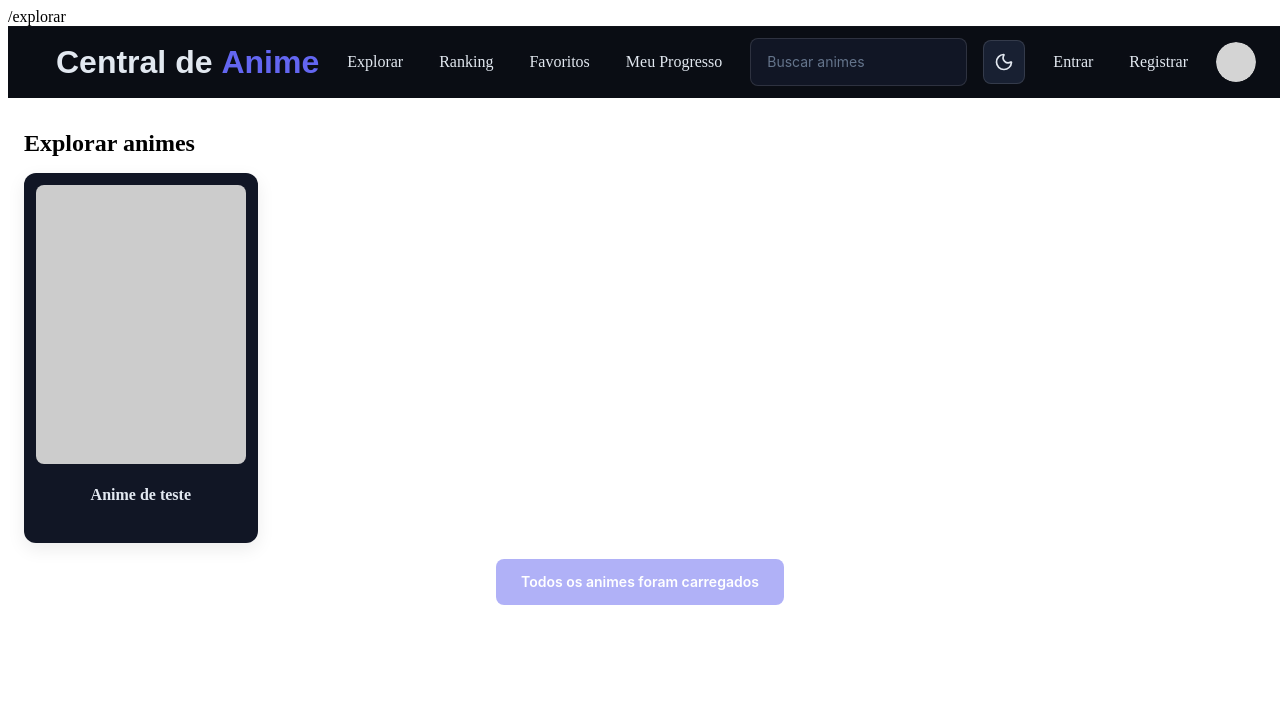
Explorar e pesquisa › exibe loading, renderiza o catálogo e permite navegar para detalhes
Later steps or results of the test are not shown.
Expected: the button "Todos os animes foram carregados" is disabled, [496,559,784,605]
Click the link "Anime de teste": (141, 358) [36,185,246,531]
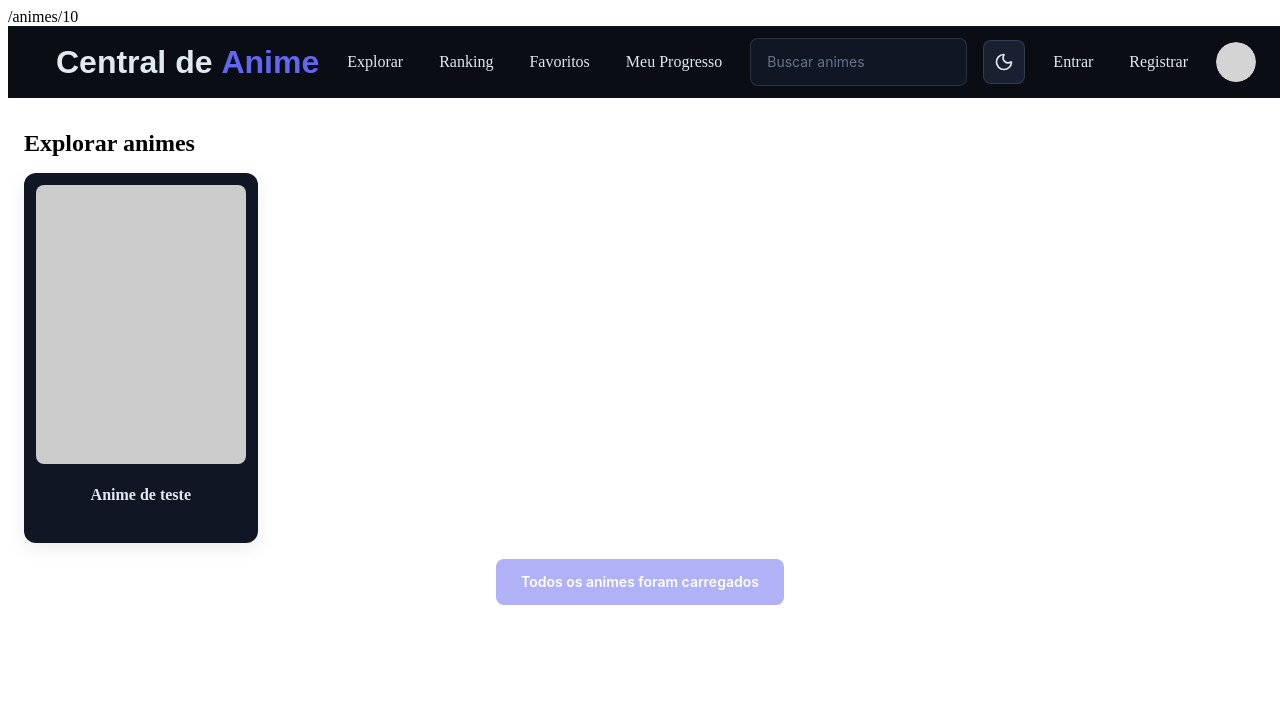
Expected: the text with test id "current-path" reads "/animes/10", [8,8,78,25]
